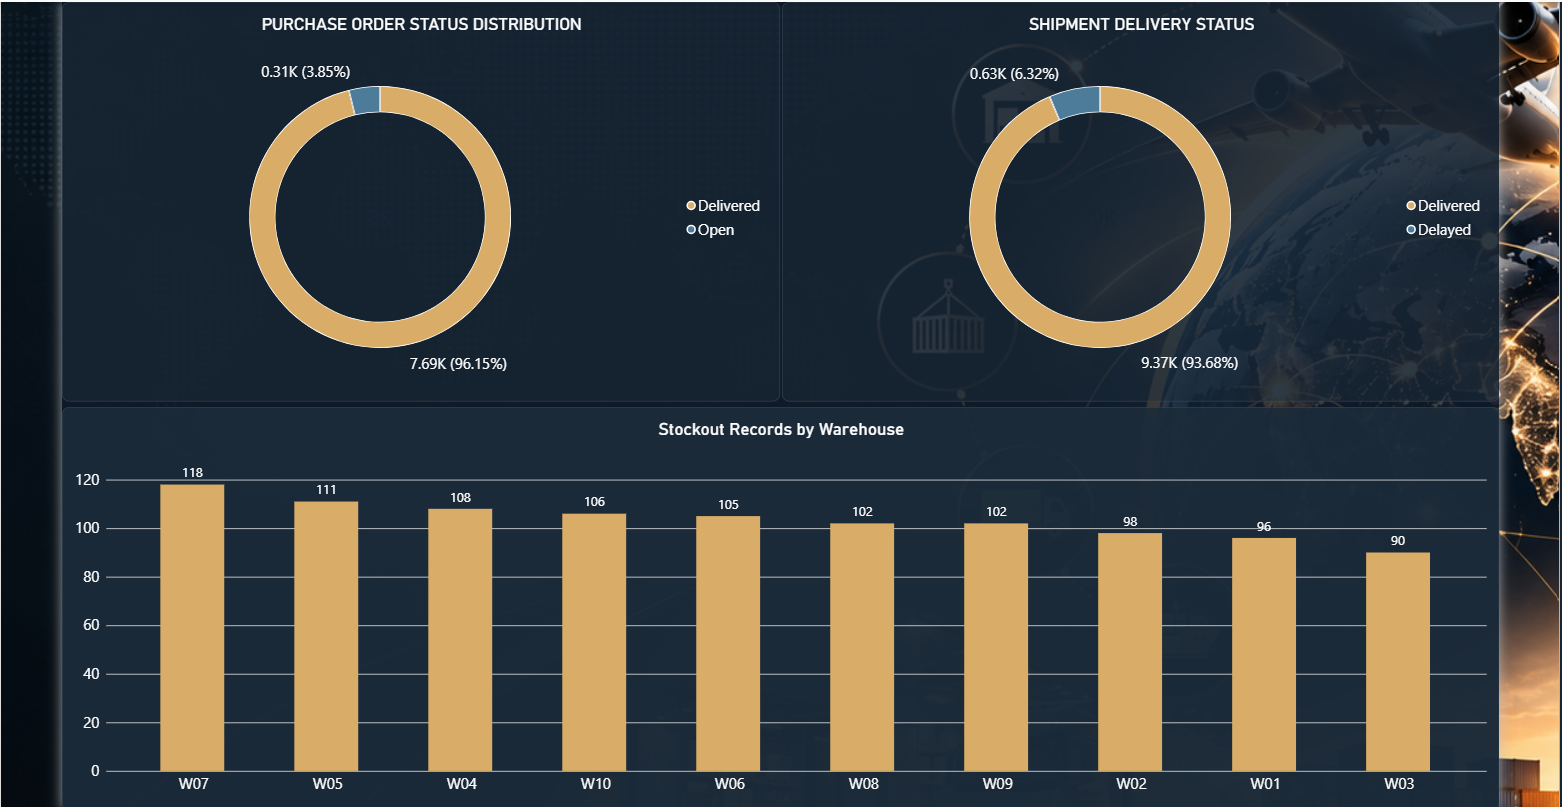

This screenshot's page, from the dashboard's own definition file:
{"tool":"powerbi","page":{"name":"Page 3","canvas":[1920,1080],"ordinal":2},"visuals":[{"type":"donutChart","title":"PURCHASE ORDER STATUS DISTRIBUTION","fields":{"Category":["purchase orders.PO_Status"],"Y":["CountNonNull(purchase orders.PO_ID)"]},"box":[0,0,959.3,533.7],"z":0},{"type":"clusteredColumnChart","title":"Stockout Records by Warehouse","fields":{"Category":["inventory.Warehouse_ID"],"Y":["inventory.Stockout Records"]},"box":[0,540.7,1920.4,539],"z":1},{"type":"donutChart","title":"SHIPMENT DELIVERY STATUS","fields":{"Category":["shipment.Delivery_Status"],"Y":["CountNonNull(shipment.Shipment_ID)"]},"box":[961,0,959.3,533.7],"z":2}]}

Visuals, with their boxes on the page's 1920x1080 design canvas (x1, y1, x2, y2). These are canvas units, not pixel positions in the 1562x807 screenshot, which may show the page scaled, cropped or inside an application window:
"PURCHASE ORDER STATUS DISTRIBUTION" donutChart: region(0, 0, 959, 534)
"Stockout Records by Warehouse" clusteredColumnChart: region(0, 541, 1920, 1080)
"SHIPMENT DELIVERY STATUS" donutChart: region(961, 0, 1920, 534)
